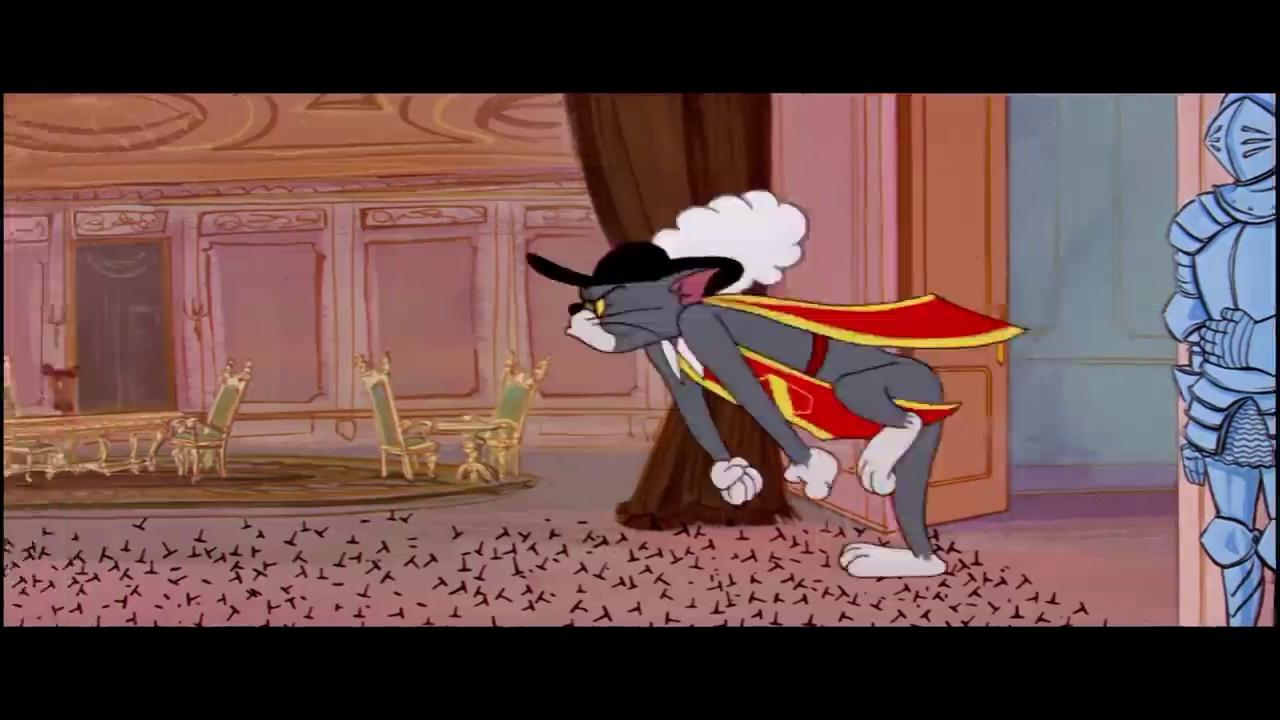Tom: (564, 257, 949, 578)
